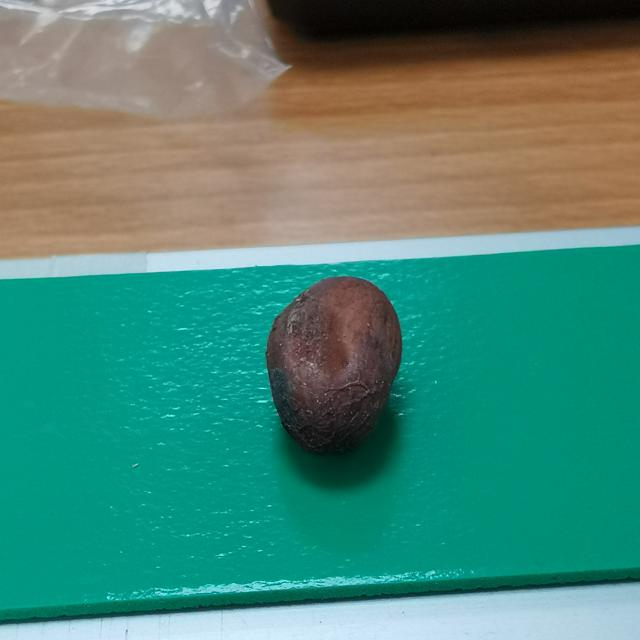Fine_cocoabeans: (188, 231, 516, 491)
